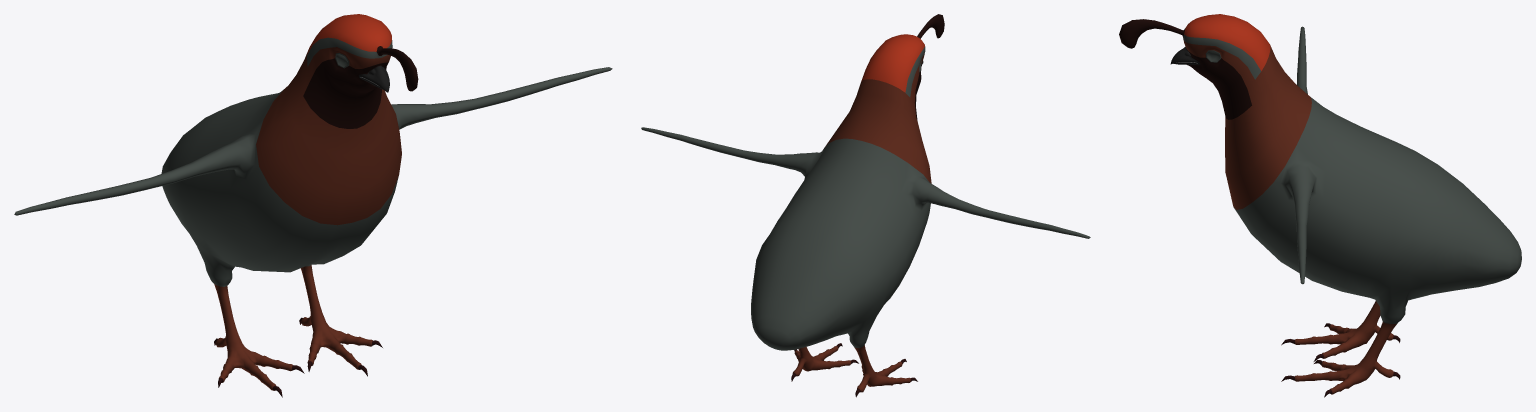
Rendered from quail_quail.obj.
3 views of the same model, side by side, from view 1: azimuth 30°, elevation 25°; view 2: azimuth 150°, elevation 25°; view 3: azimuth 270°, elevation 25° (orthographic). The views are drawn at different scales.
Visible parts, largest first — view 1: quail; view 2: quail; view 3: quail.
Boxes of the visible parts, x1=… form: quail: x1=14, y1=14, x2=612, y2=397; quail: x1=641, y1=14, x2=1090, y2=397; quail: x1=1119, y1=14, x2=1521, y2=397.
Bounding box in the file's own units: 0.2801 × 0.1762 × 0.1858.
